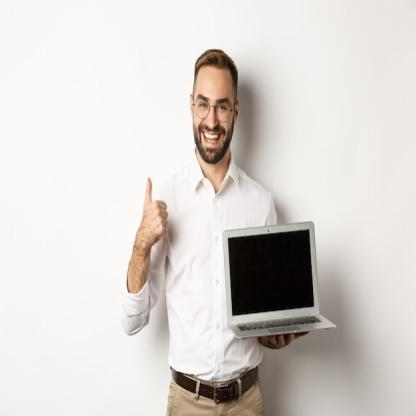thumb_up: (135, 174, 172, 244)
